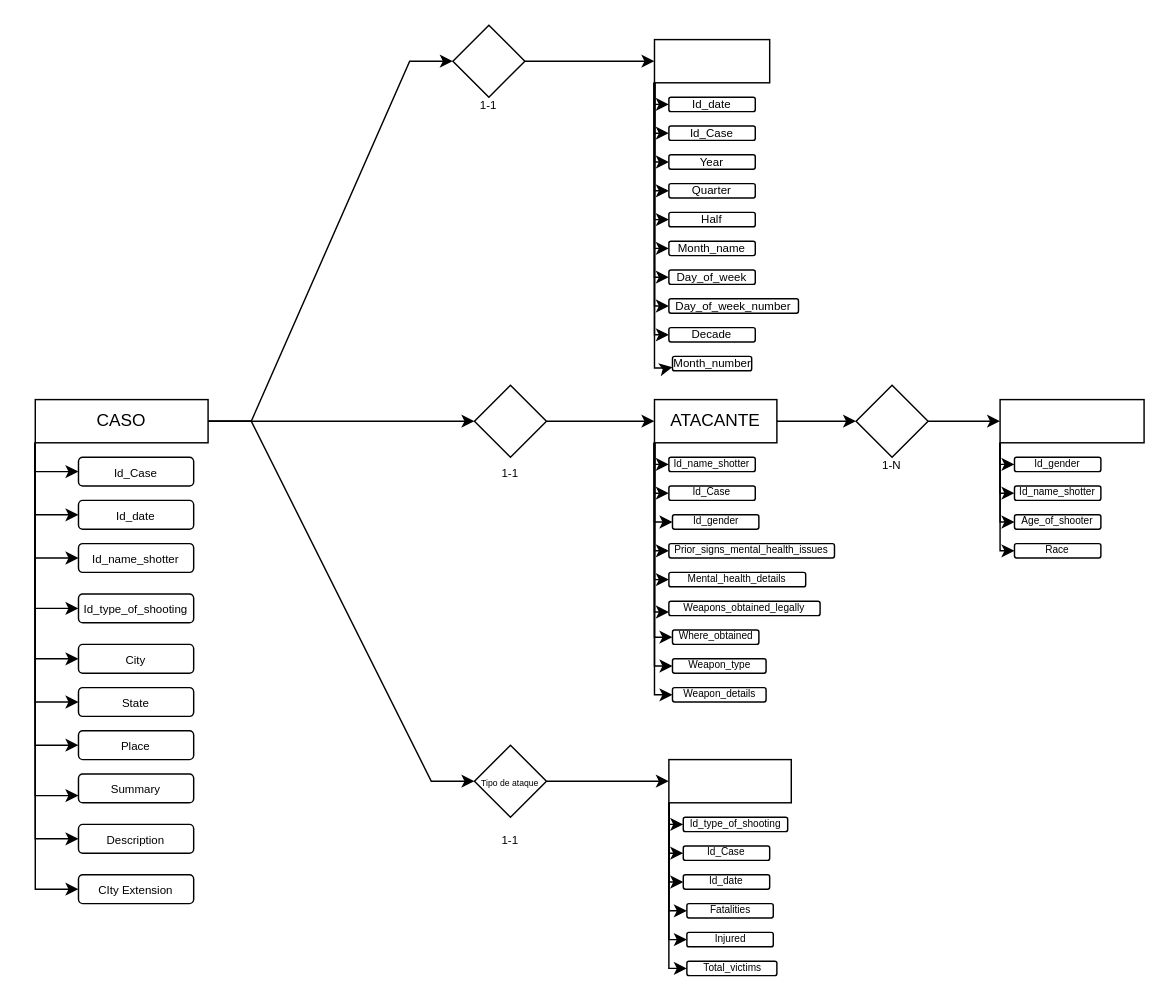
This 1169x1005 diagram has some shape labels left out. Each missing label, with the box of its shape:
Calendario: (653, 38, 770, 83)
Cuando se produjo: (451, 24, 525, 97)
Grupos Etnicos: (999, 398, 1144, 443)
Pertenece a: (855, 384, 928, 457)
Quien Ataco?: (473, 384, 546, 457)
VICTIMAS: (667, 758, 791, 803)
